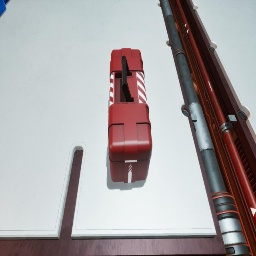FirstAidBox ,: (108, 48, 152, 183)
